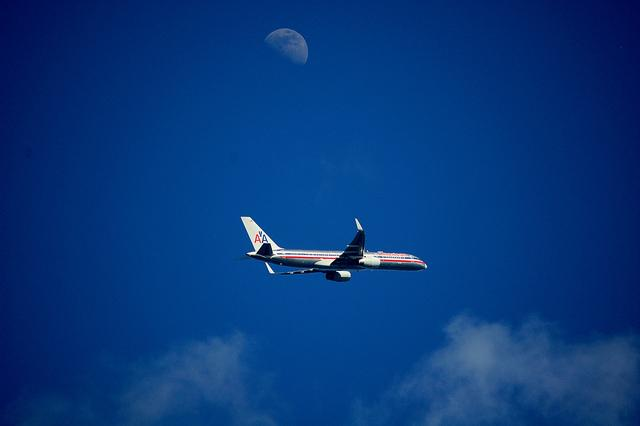airplane: (232, 215, 429, 284)
